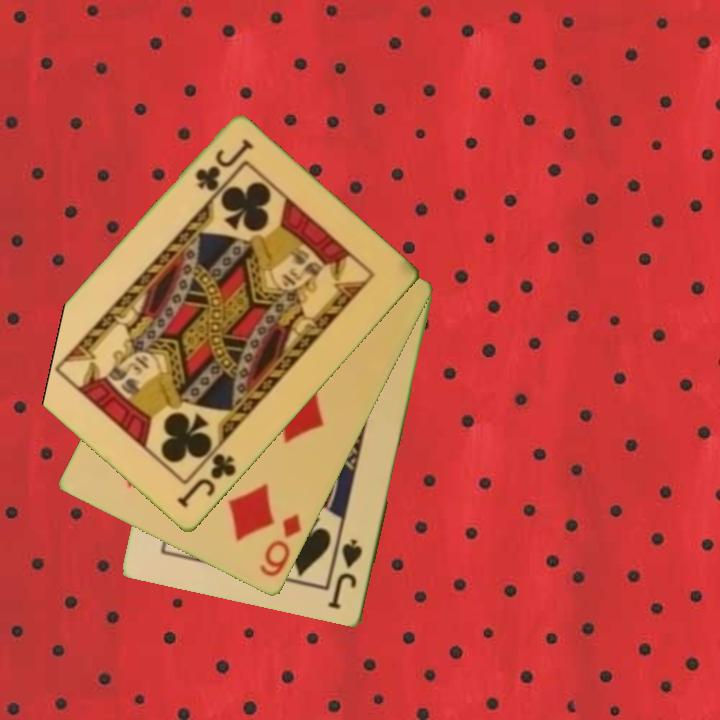6d: (256, 510, 305, 581)
Jc: (173, 450, 240, 512), (191, 135, 256, 195)
Js: (327, 536, 366, 613)
